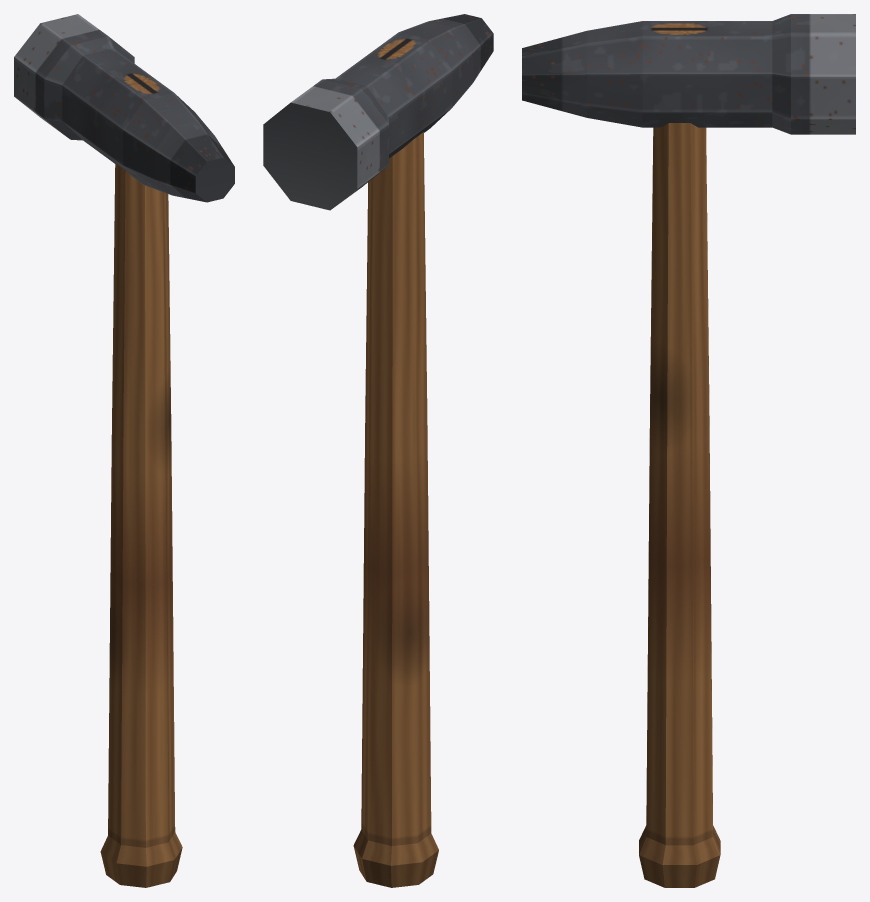
The model's file is hammer.glb.
The picture shows the model from 3 angles, left to right: view 1: azimuth 30°, elevation 25°; view 2: azimuth 150°, elevation 25°; view 3: azimuth 270°, elevation 25°; orthographic projection. The views are drawn at different scales.
Visible parts, largest first — view 1: Hammer; view 2: Hammer; view 3: Hammer.
Boxes of the visible parts, x1,y1,x2,y2 form: Hammer: (14, 14, 234, 887); Hammer: (263, 14, 493, 887); Hammer: (522, 14, 855, 887).
Bounding box in the file's own units: 0.06 × 0.505 × 0.18.
Materials: 2 (2 with a texture image).
